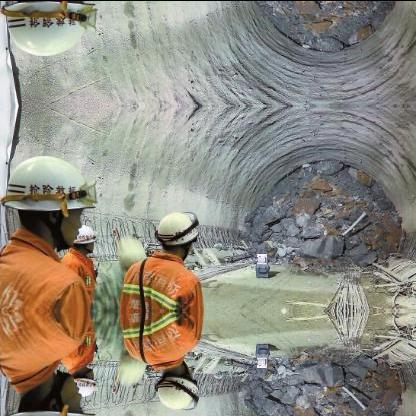Helmet: (10, 148, 94, 230), (9, 0, 95, 61), (10, 388, 94, 412), (154, 208, 202, 245), (154, 374, 202, 410), (73, 222, 95, 252), (73, 367, 95, 396)
